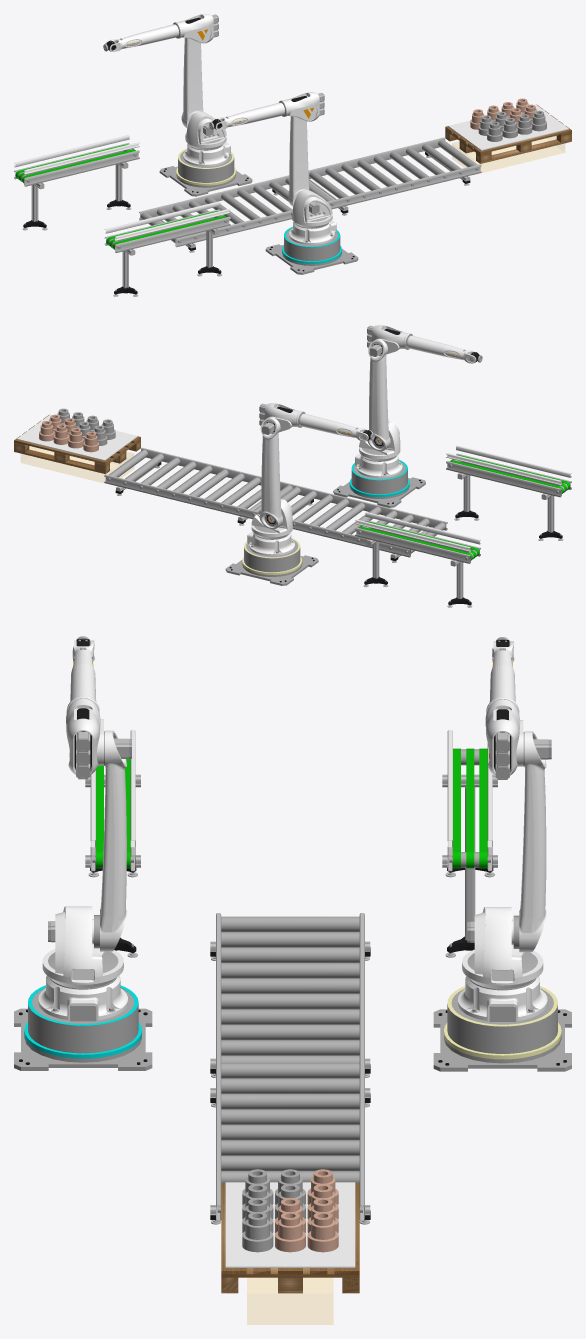
3 renders of one model, top to bottom at view 1: azimuth 30°, elevation 25°; view 2: azimuth 150°, elevation 25°; view 3: azimuth 270°, elevation 25°, orthographic. The views are drawn at different scales.
Parts seen in each view (by area): view 1: Mesh [05Fg], Mesh [00hg], Mesh [06gg], Mesh [052g], Mesh [06Vg], Mesh [01vg], Mesh [07Pg], Mesh [04hg], Mesh [00Wg], Mesh [03kg], Mesh [06Jg], Mesh [00Kg] (+16 smaller); view 2: Mesh [05Gg], Mesh [00hg], Mesh [06gg], Mesh [052g], Mesh [07Qg], Mesh [01wg], Mesh [04hg], Mesh [00Kg], Mesh [06Jg], Mesh [03lg], Mesh [03kg], Mesh [05Fg] (+16 smaller); view 3: Mesh [052g], Mesh [00Wg], Mesh [06Vg], Mesh [00Kg], Mesh [06Jg], Mesh [04hg], Mesh [00hg], Mesh [06gg], Mesh [06Kg], Mesh [00Lg], Mesh [05vg], Mesh [04Kg] (+31 smaller).
Part boxes in pixels (x1,y1,x2,y2): Mesh [05Fg]: [328, 164, 481, 209]; Mesh [00hg]: [183, 38, 202, 111]; Mesh [06gg]: [289, 116, 308, 189]; Mesh [052g]: [448, 104, 568, 150]; Mesh [06Vg]: [291, 189, 332, 227]; Mesh [01vg]: [115, 216, 230, 252]; Mesh [07Pg]: [24, 150, 139, 186]; Mesh [04hg]: [452, 136, 564, 172]; Mesh [00Wg]: [185, 111, 226, 149]; Mesh [03kg]: [175, 201, 329, 247]; Mesh [06Jg]: [284, 228, 340, 261]; Mesh [00Kg]: [178, 150, 234, 182]; Mesh [05Gg]: [104, 474, 257, 518]; Mesh [00hg]: [261, 435, 280, 511]; Mesh [06gg]: [369, 358, 388, 433]; Mesh [052g]: [17, 414, 137, 460]; Mesh [07Qg]: [355, 527, 470, 563]; Mesh [01wg]: [446, 461, 561, 497]; Mesh [04hg]: [21, 446, 133, 482]; Mesh [00Kg]: [244, 539, 300, 572]; Mesh [06Jg]: [351, 461, 407, 494]; Mesh [03lg]: [292, 520, 410, 557]; Mesh [03kg]: [293, 485, 447, 530]; Mesh [05Fg]: [141, 447, 294, 490]; Mesh [052g]: [225, 1182, 355, 1267]; Mesh [00Wg]: [462, 907, 543, 988]; Mesh [06Vg]: [42, 906, 123, 988]; Mesh [00Kg]: [447, 988, 557, 1053]; Mesh [06Jg]: [28, 988, 138, 1053]; Mesh [04hg]: [247, 1278, 332, 1324]; Mesh [00hg]: [520, 769, 546, 916]; Mesh [06gg]: [101, 769, 126, 916]; Mesh [06Kg]: [38, 975, 127, 1021]; Mesh [00Lg]: [458, 976, 547, 1022]; Mesh [05vg]: [221, 1093, 359, 1109]; Mesh [04Kg]: [221, 993, 359, 1009].
Size of the model in its own units: 6.41 by 2.04 by 3.22.
Materials: 17 (1 with a texture image).
